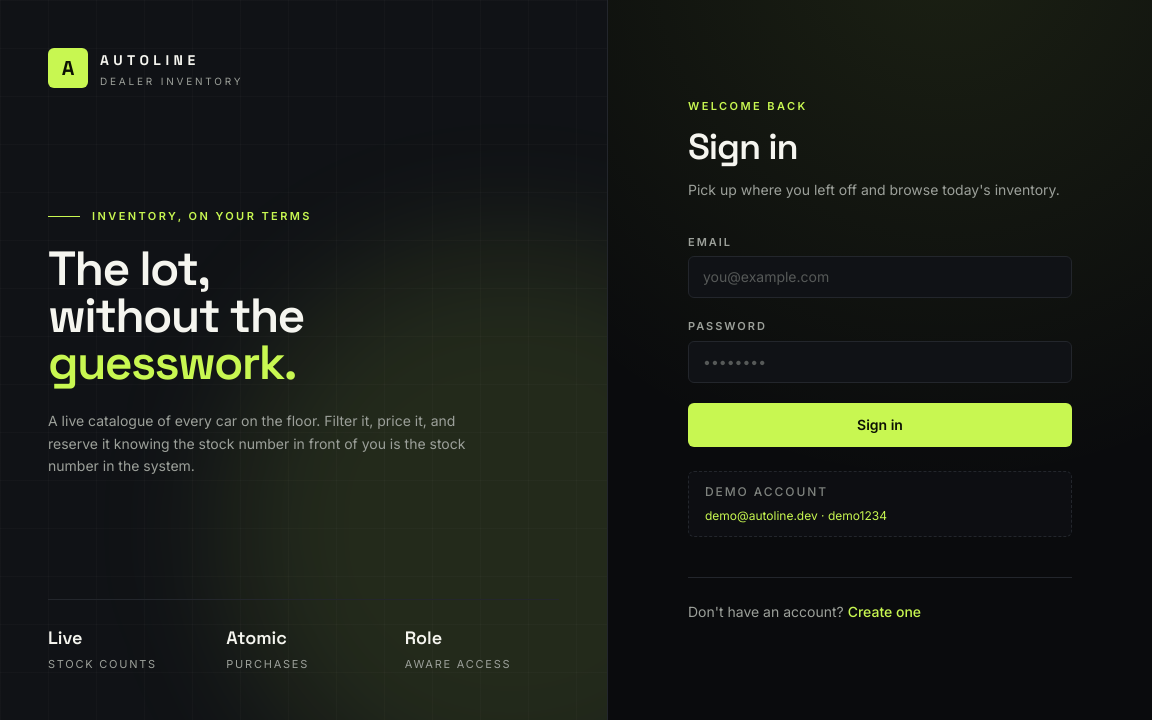
LoginPage › shows field-level errors instead of a generic alert
The image size is (1152, 720).
Click the button "Sign in".
click(880, 425)  # box [688,403,1072,447]
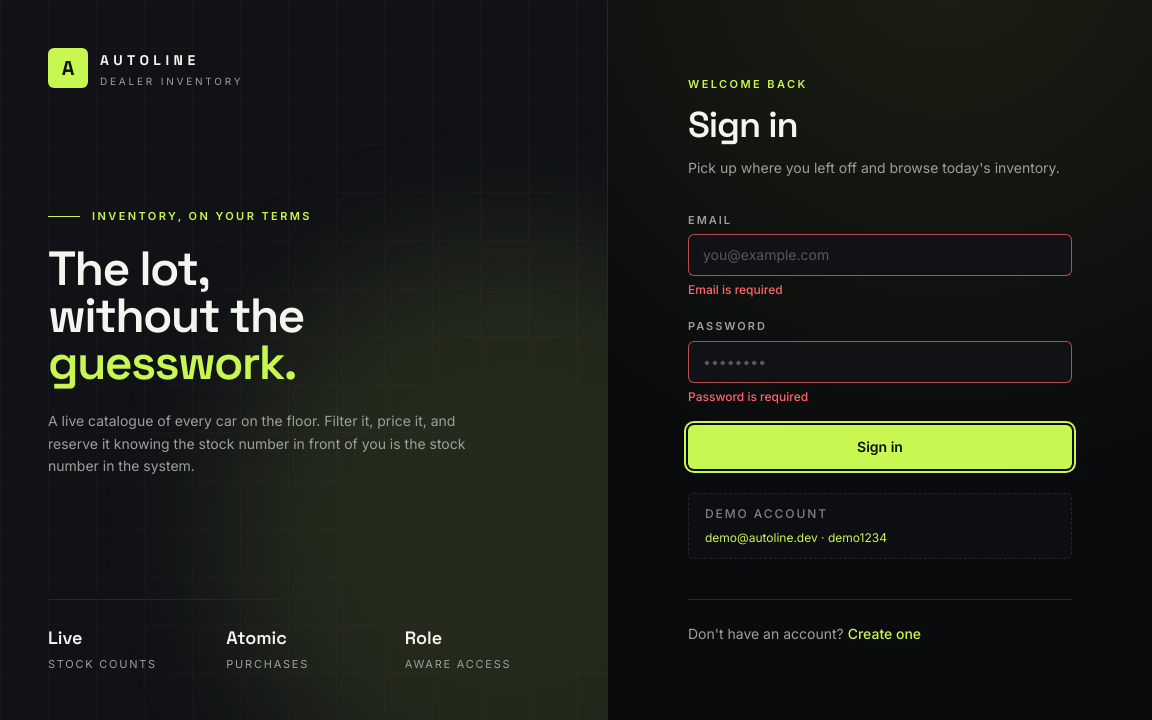
Expected: the text "Email is required" is shown, [688,282,783,297]
Expected: the text "Password is required" is shown, [688,389,808,404]
